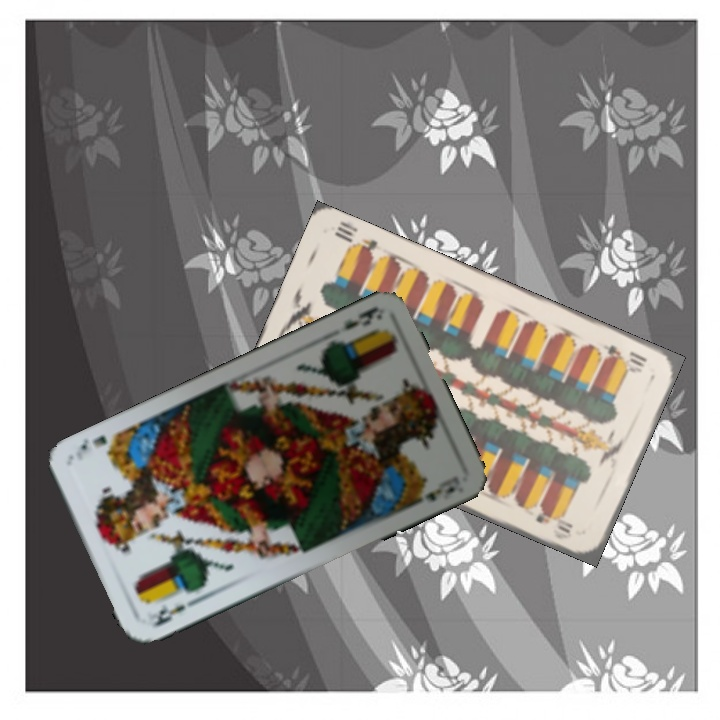E10: (599, 340, 650, 370)
EK: (150, 594, 200, 630), (339, 302, 381, 333)
